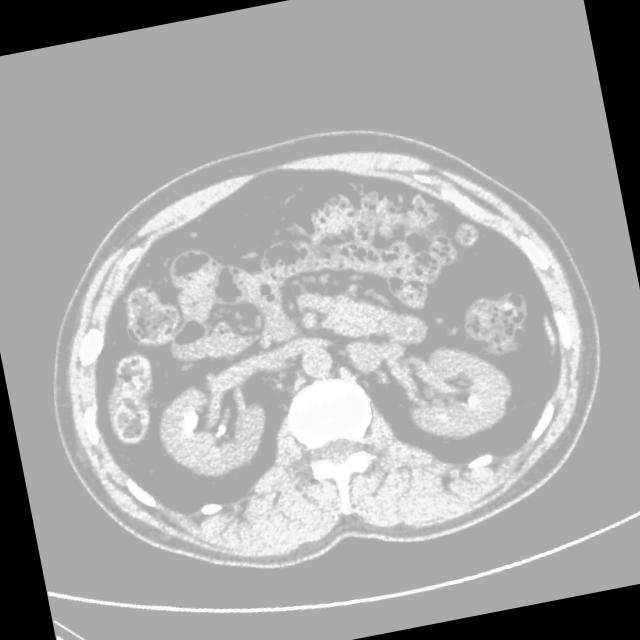STONE: (124, 248, 542, 519)
